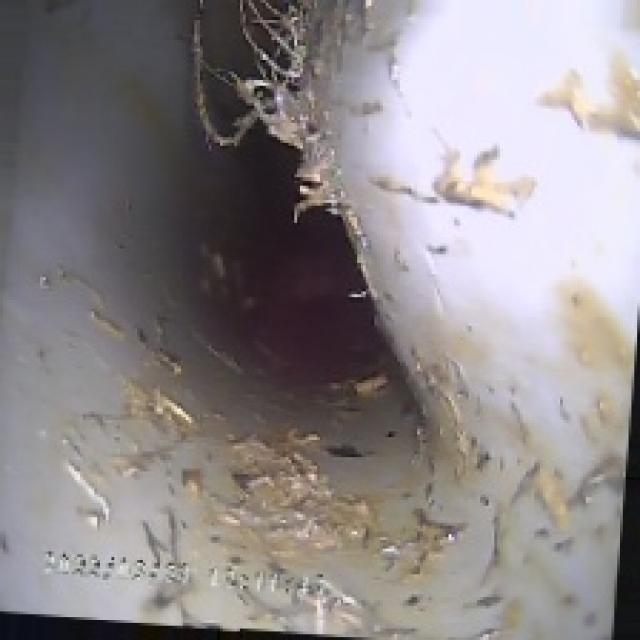shape_deformation: (186, 54, 563, 557)
